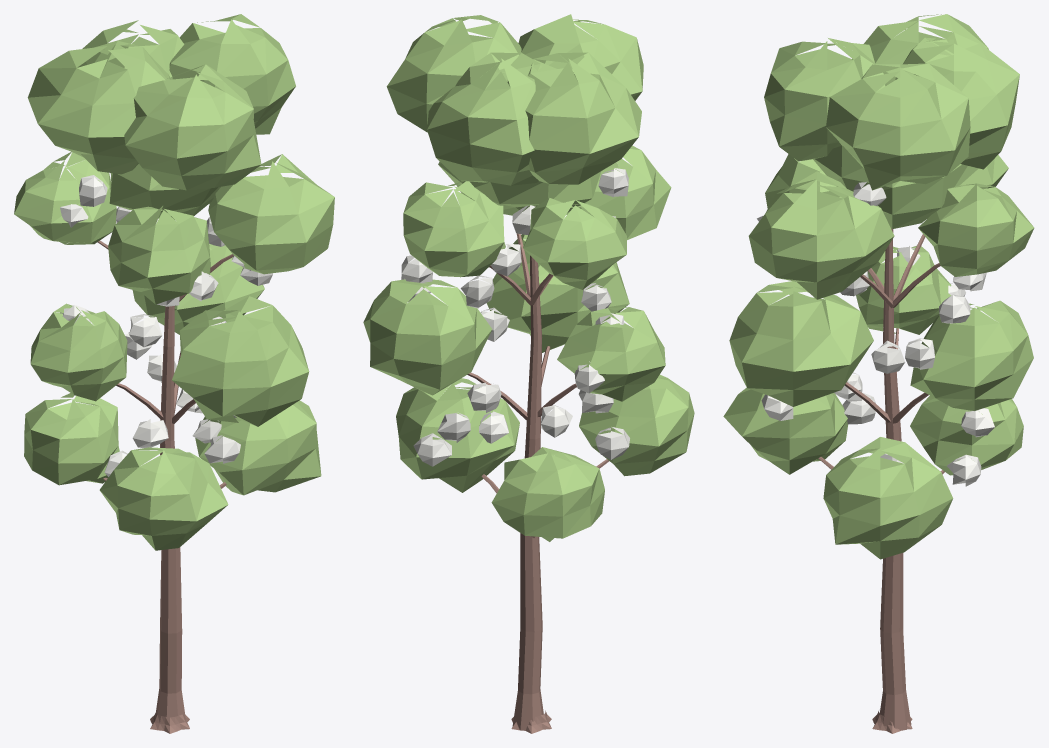
Rendered from cherry-blossom-spreading.glb.
3 renders of one model, left to right at view 1: azimuth 30°, elevation 25°; view 2: azimuth 150°, elevation 25°; view 3: azimuth 270°, elevation 25°, orthographic.
Visible parts, largest first — view 1: wild-cherry-in-blossom; view 2: wild-cherry-in-blossom; view 3: wild-cherry-in-blossom.
Part boxes in pixels (x1,y1,x2,y2): wild-cherry-in-blossom: [14, 14, 334, 733]; wild-cherry-in-blossom: [363, 14, 694, 733]; wild-cherry-in-blossom: [723, 14, 1034, 733].
Bounding box in the file's own units: 6.66 × 15.78 × 6.46.
